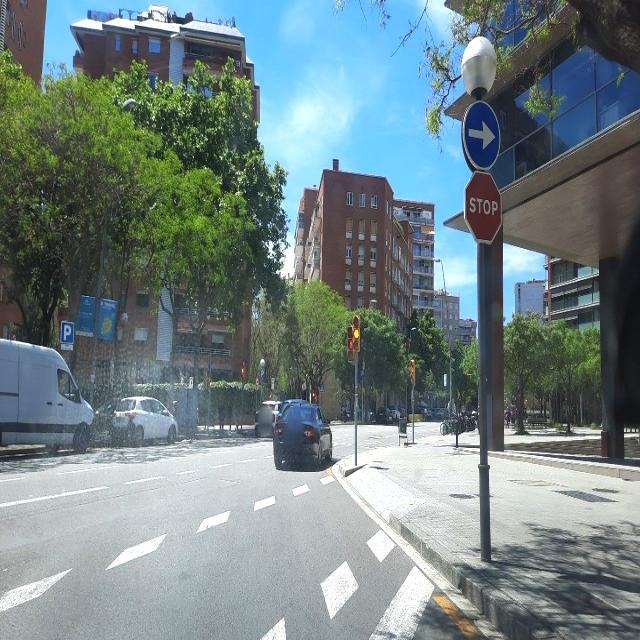car: (0, 335, 96, 461), (272, 401, 332, 470), (109, 396, 179, 448), (254, 399, 284, 437), (375, 406, 390, 423), (424, 408, 434, 420)
